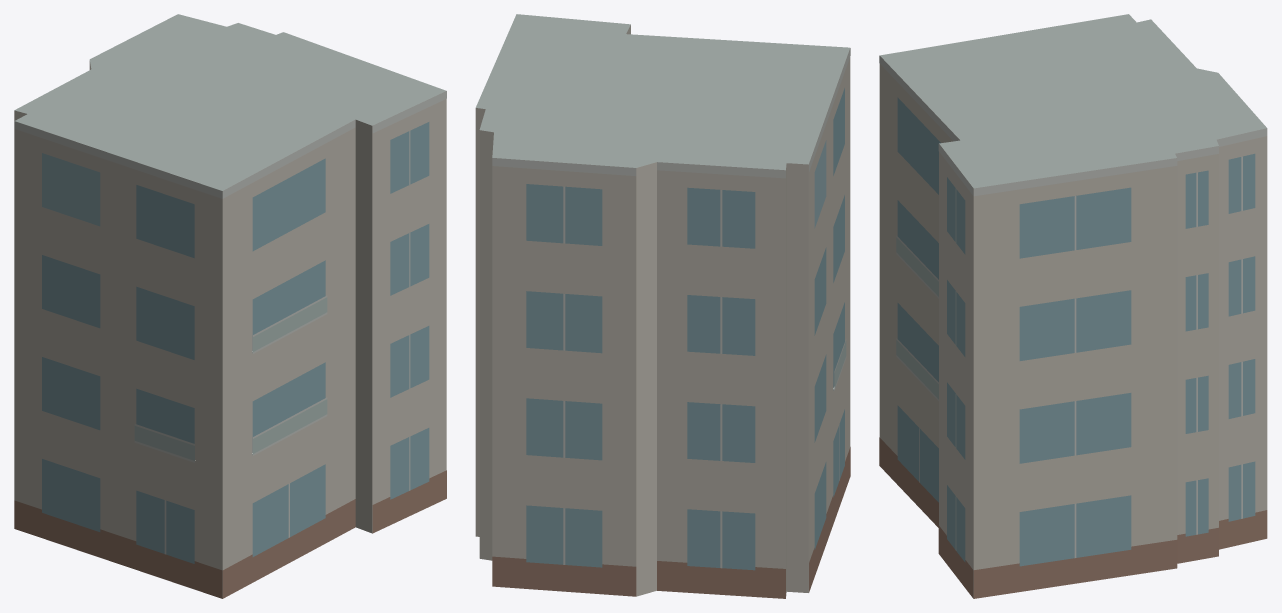
Rendered from survey-upis-32594316.glb.
3 renders of one model, left to right at view 1: azimuth 30°, elevation 25°; view 2: azimuth 150°, elevation 25°; view 3: azimuth 270°, elevation 25°, orthographic. The views are drawn at different scales.
Visible parts, largest first — view 1: survey-upis-32594316.tmp; view 2: survey-upis-32594316.tmp; view 3: survey-upis-32594316.tmp.
Part boxes in pixels (bbox=[...]): survey-upis-32594316.tmp: bbox=[14, 14, 446, 598]; survey-upis-32594316.tmp: bbox=[475, 14, 850, 598]; survey-upis-32594316.tmp: bbox=[879, 14, 1267, 598].
Size of the model in its own units: 11.59 by 12.7 by 10.88.
